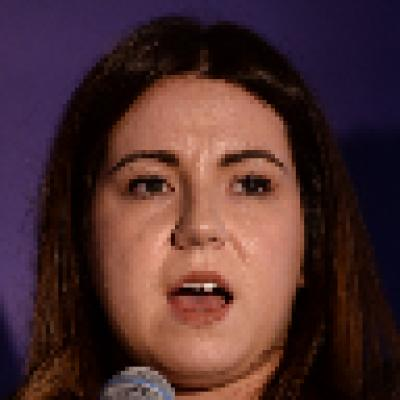surprise: (99, 74, 299, 368)
